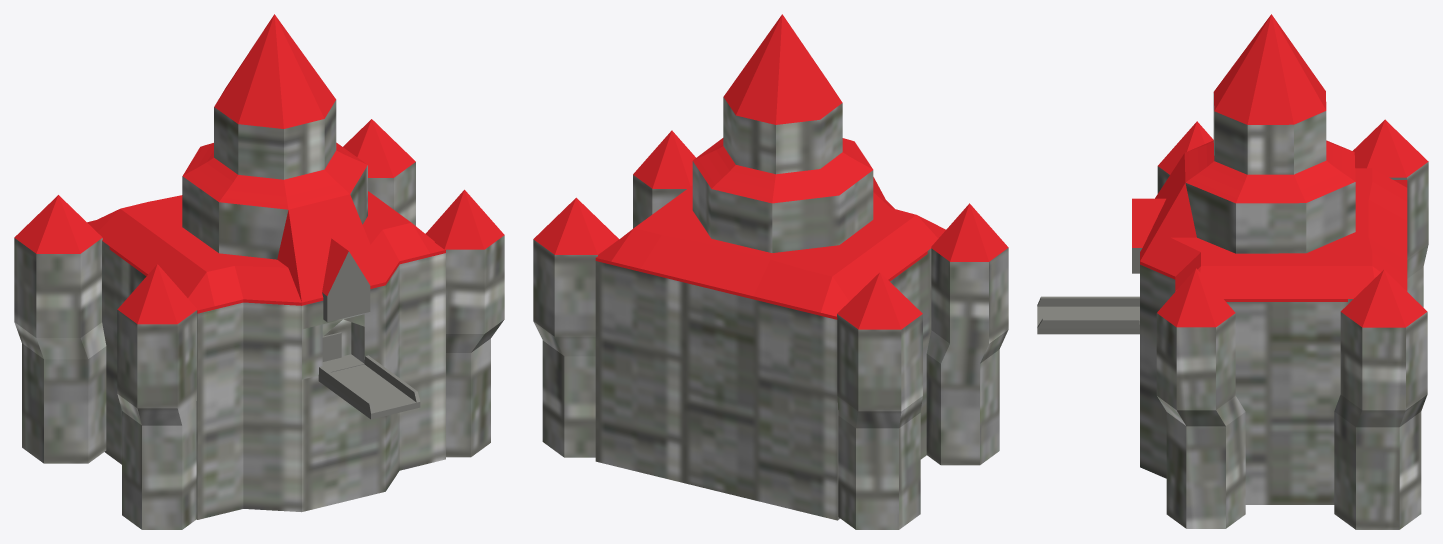
Rendered from castle.fbx.
3 renders of one model, left to right at view 1: azimuth 30°, elevation 25°; view 2: azimuth 150°, elevation 25°; view 3: azimuth 270°, elevation 25°, orthographic. The views are drawn at different scales.
Parts seen in each view (by area): view 1: Circle; view 2: Circle; view 3: Circle.
Part boxes in pixels (x1,y1,x2,y2): Circle: [14, 14, 504, 529]; Circle: [533, 14, 1008, 529]; Circle: [1037, 14, 1428, 529].
Size of the model in its own units: 1758 by 1948 by 1598.
